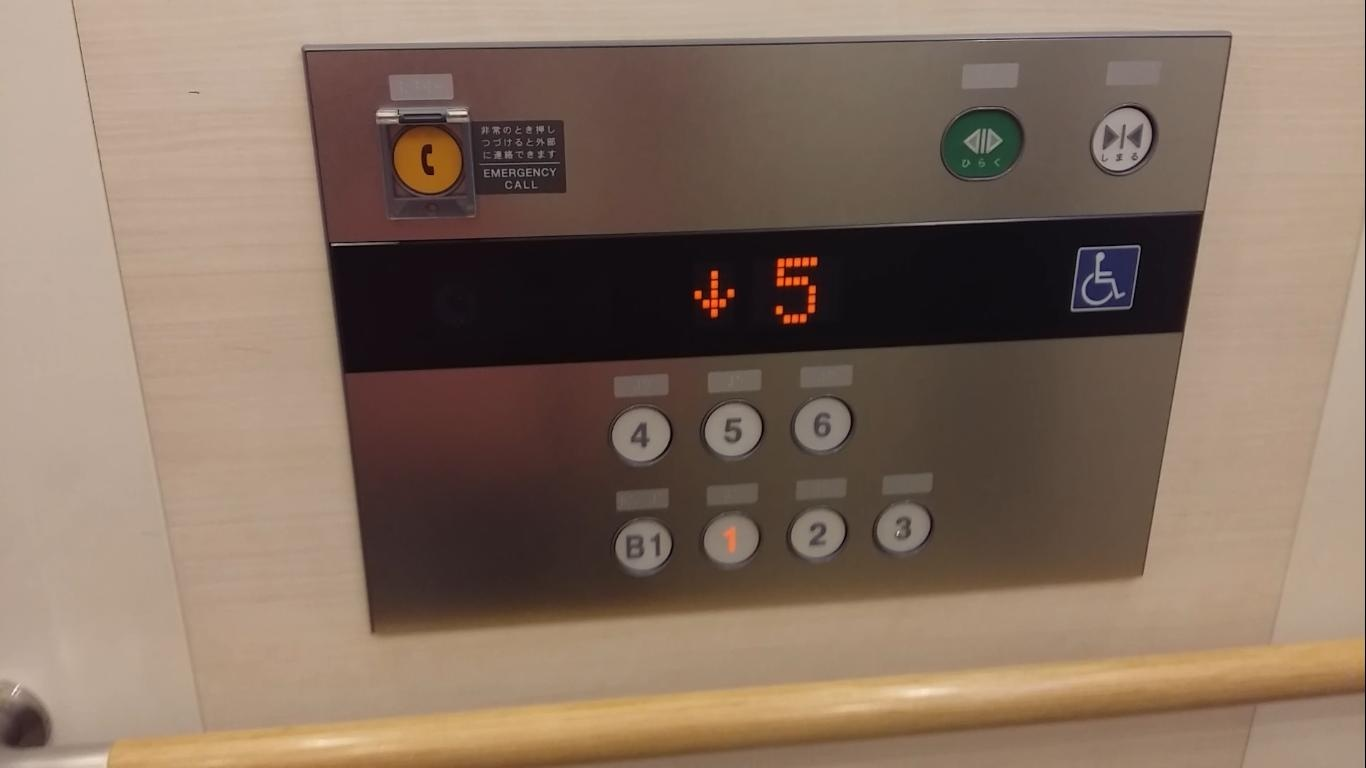1: (698, 508, 762, 568)
2: (783, 504, 848, 563)
3: (871, 498, 934, 556)
4: (607, 403, 673, 466)
5: (699, 397, 765, 460)
6: (789, 393, 856, 459)
B1: (610, 515, 676, 576)
CH: (1068, 241, 1141, 314)
call: (386, 117, 466, 198)
close: (1089, 96, 1160, 180)
open: (939, 100, 1027, 183)
